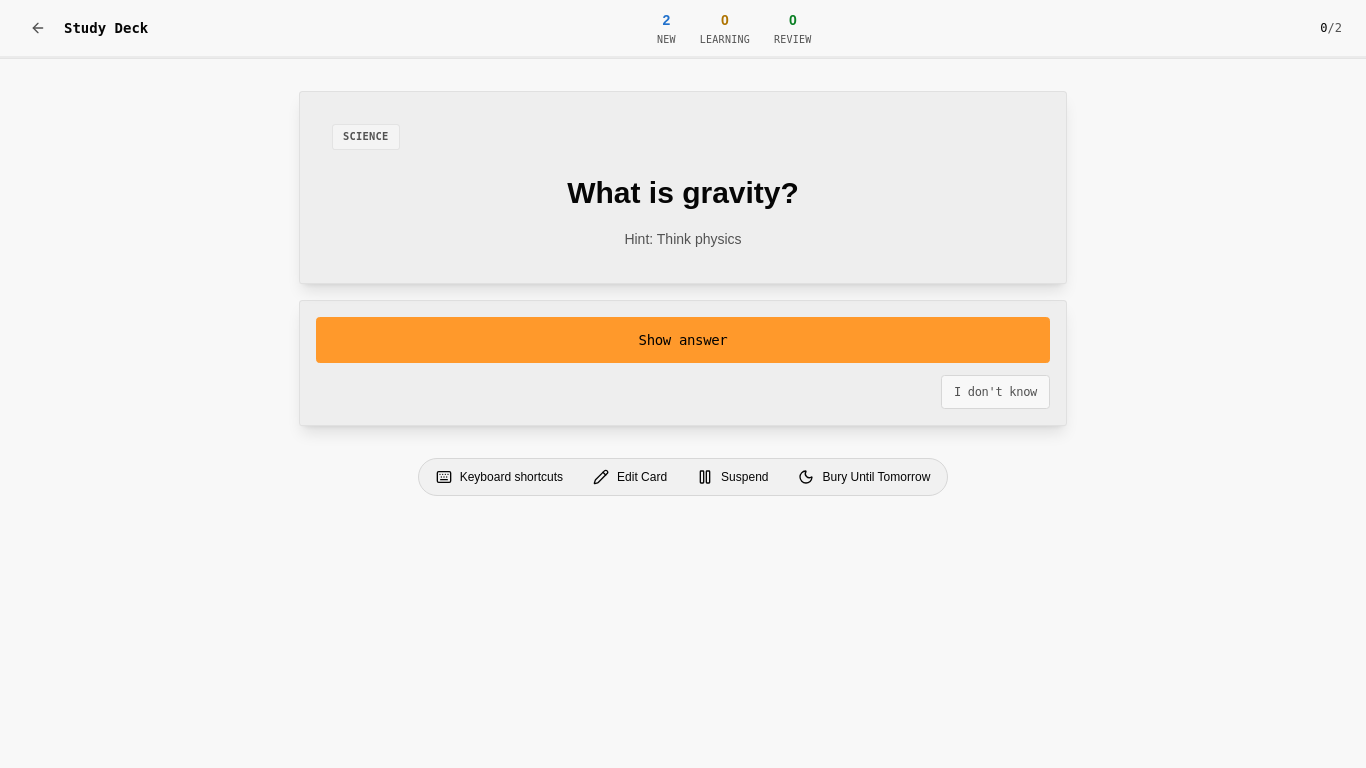
StudyScreen › advances plain cards immediately after rating click while saving
This screenshot has width=1366, height=768.
Expected: the heading "What is gravity?" is shown, [567,174,799,211]
Click the button "Show answer": [683, 340] box [316,317,1050,363]
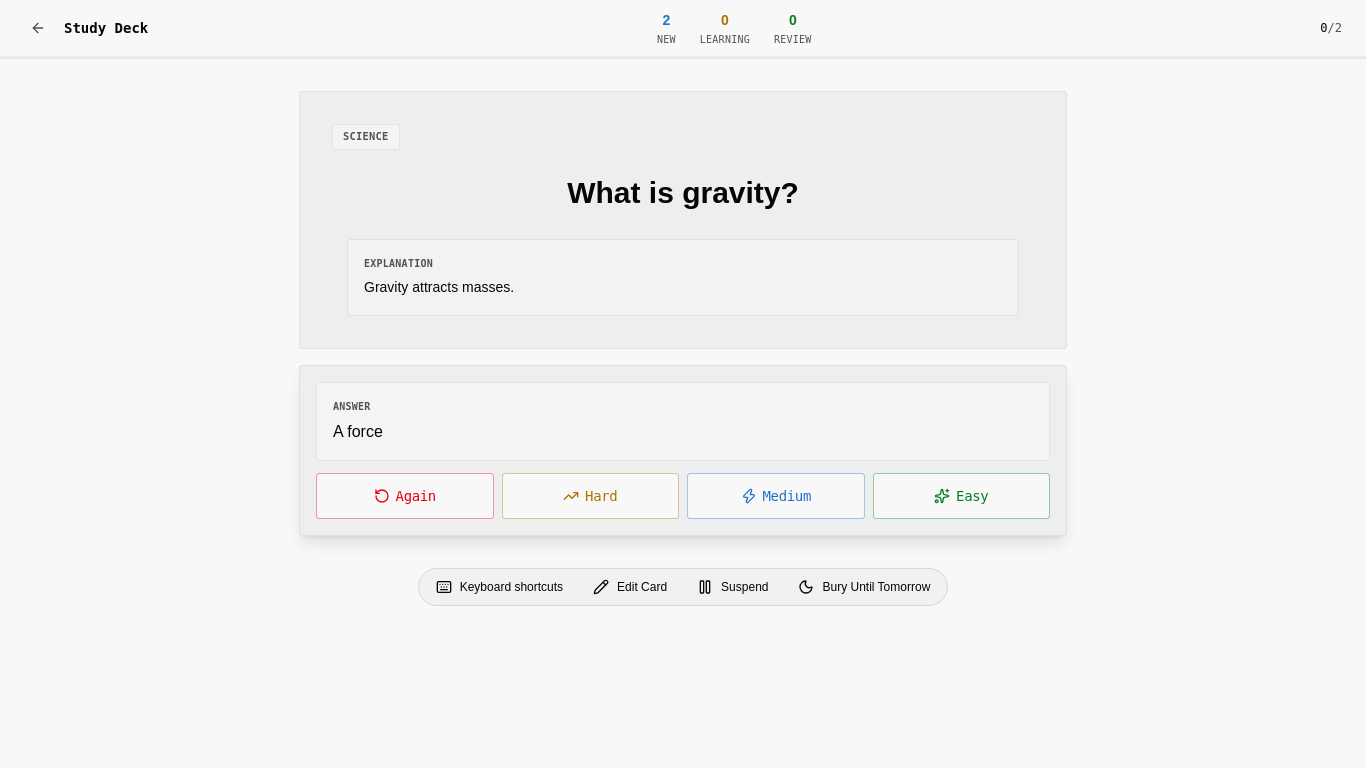
Click the button "Medium": [776, 496] box [687,473,864,519]
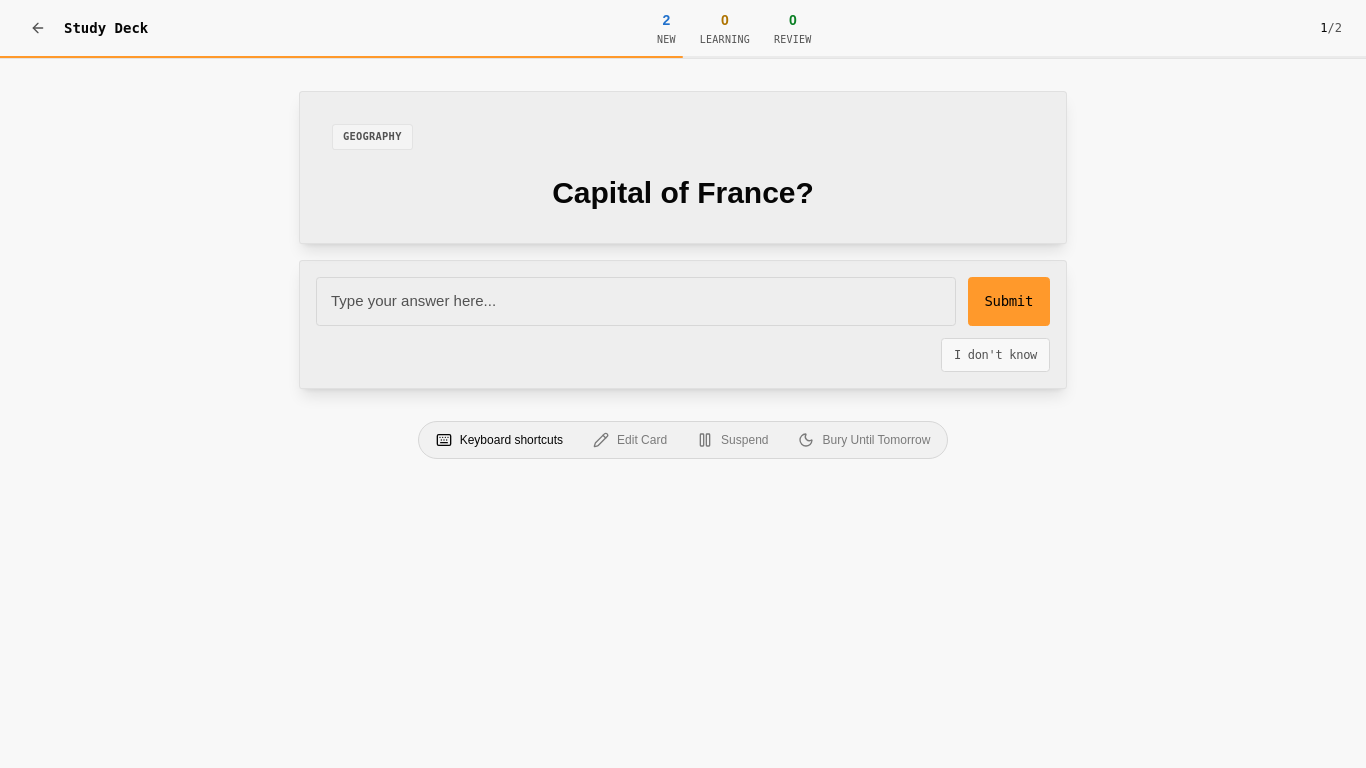
Now the heading "Capital of France?" is shown, box [552,174,814,211]
Now the heading "What is gravity?" is gone
